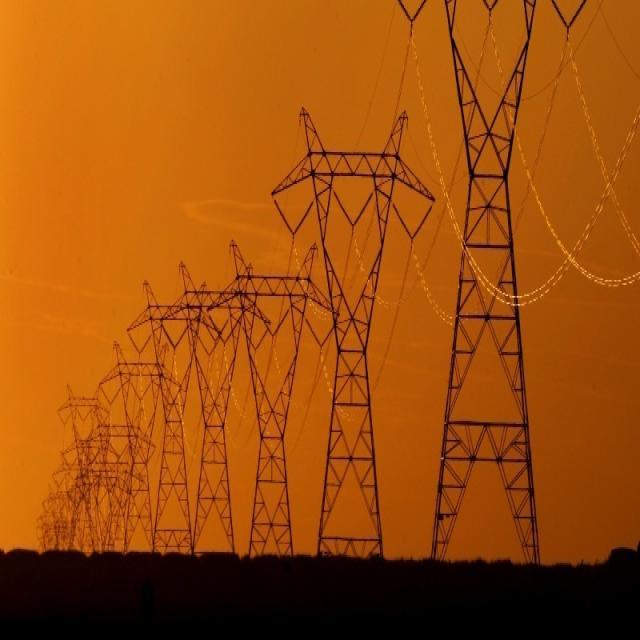non-critical vegetation: (281, 93, 424, 557), (440, 27, 545, 563), (222, 227, 306, 557), (134, 270, 233, 549)
